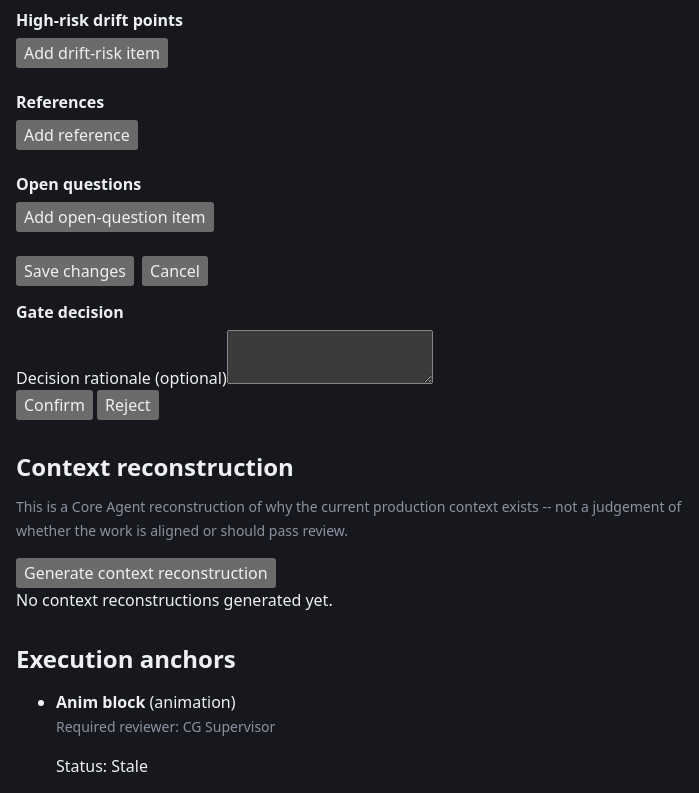
Test: ShotAnchorPage › confirms a draft
The image size is (699, 793).
(page scrolled)
Click the button "Confirm" at (54, 405), box x1=16 y1=390 x2=93 y2=420
(page scrolled)
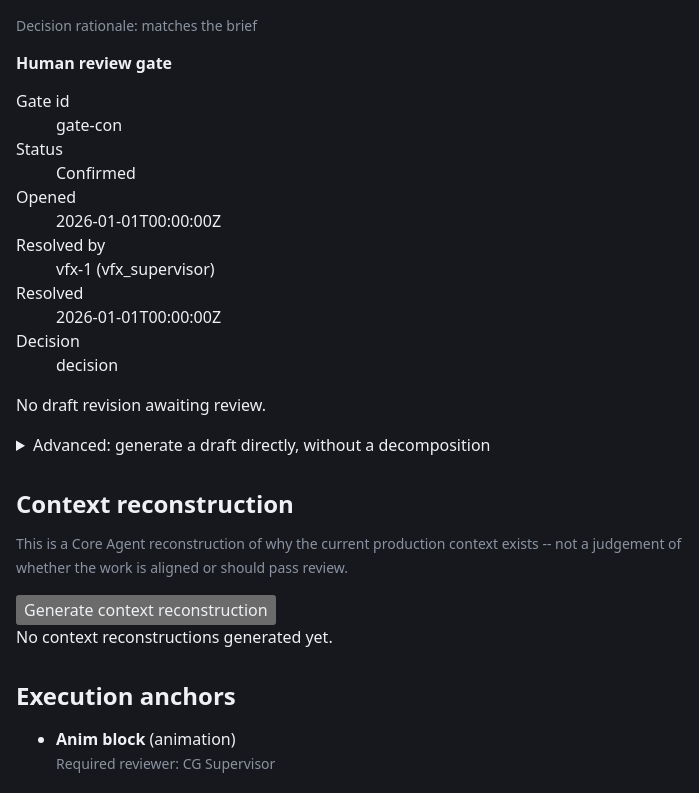
Check: the text "No draft revision awaiting review." is shown, box x1=16 y1=394 x2=266 y2=416
